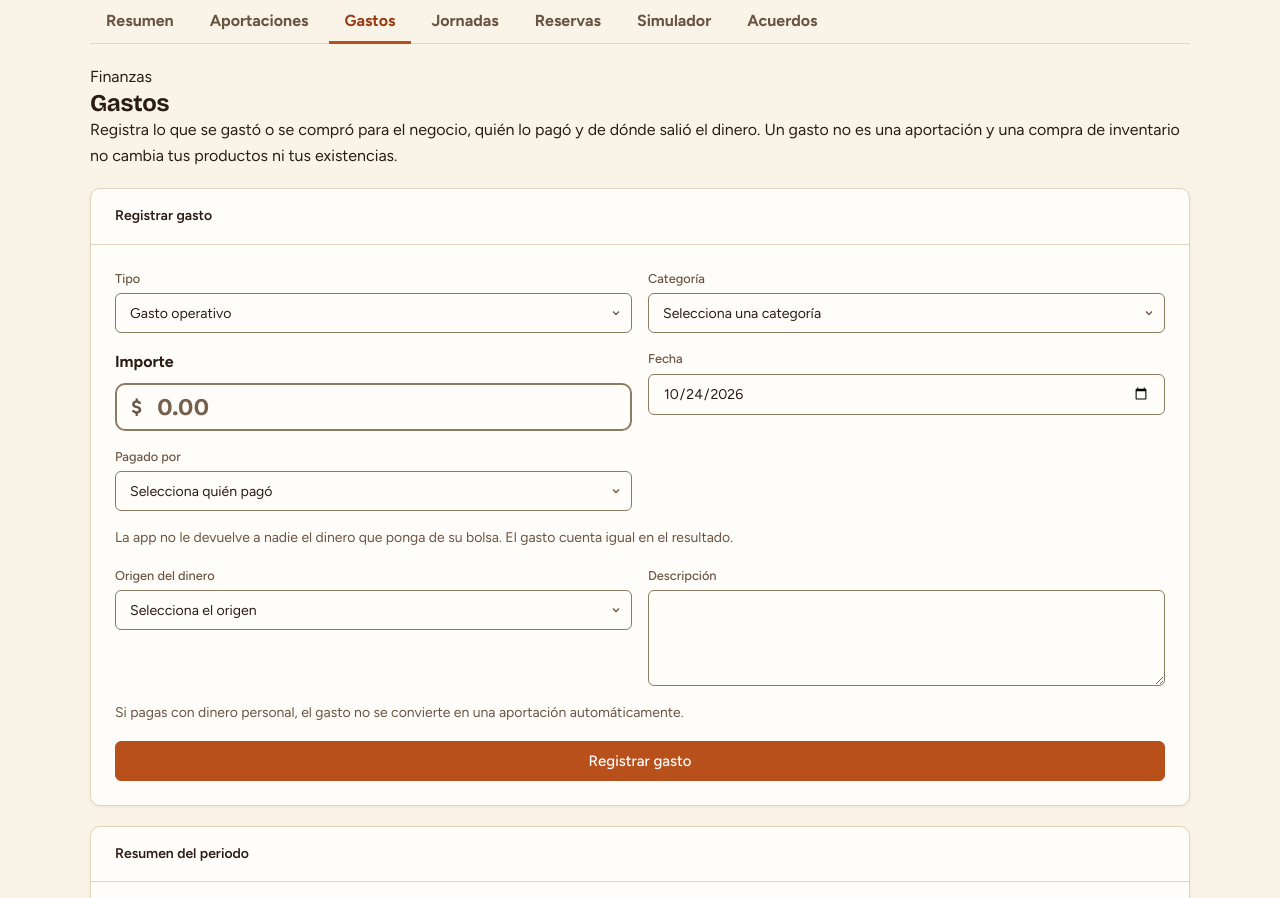
expenses screen › does not save an ambiguous amount and says what is wrong
Select "Transporte" in the dropdown with id "expense-category" at (906, 313), box [648,293,1165,333]
Type "450.50" into the field with id "expense-amount".
click(374, 407); type("450.50")  # box [115,383,632,431]
Type "2026-10-01" into the date field with id "expense-date".
click(906, 394); type("2026-10-01")  # box [648,374,1165,415]
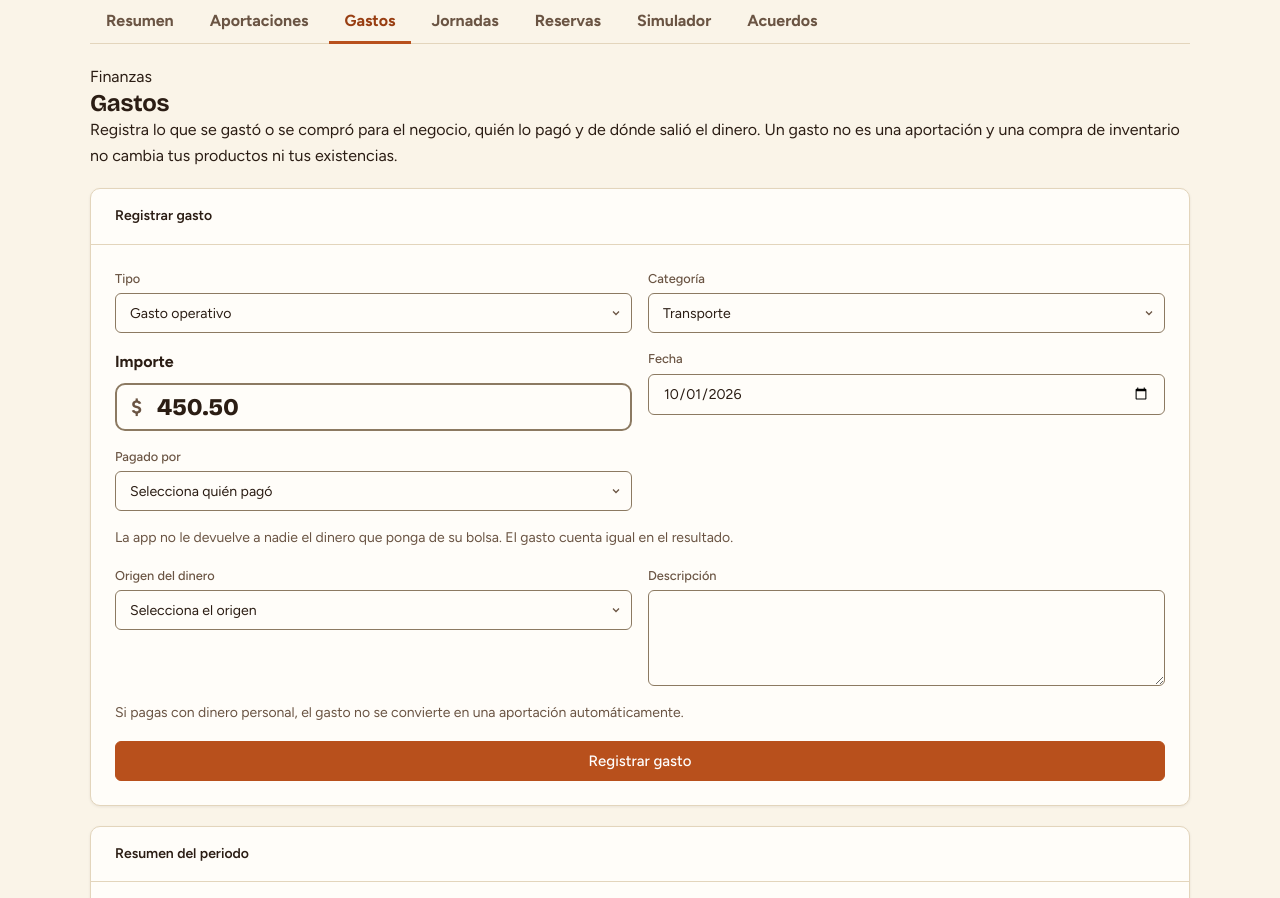
Select "Ana" in the dropdown with id "expense-payer" at (374, 491), box [115,471,632,511]
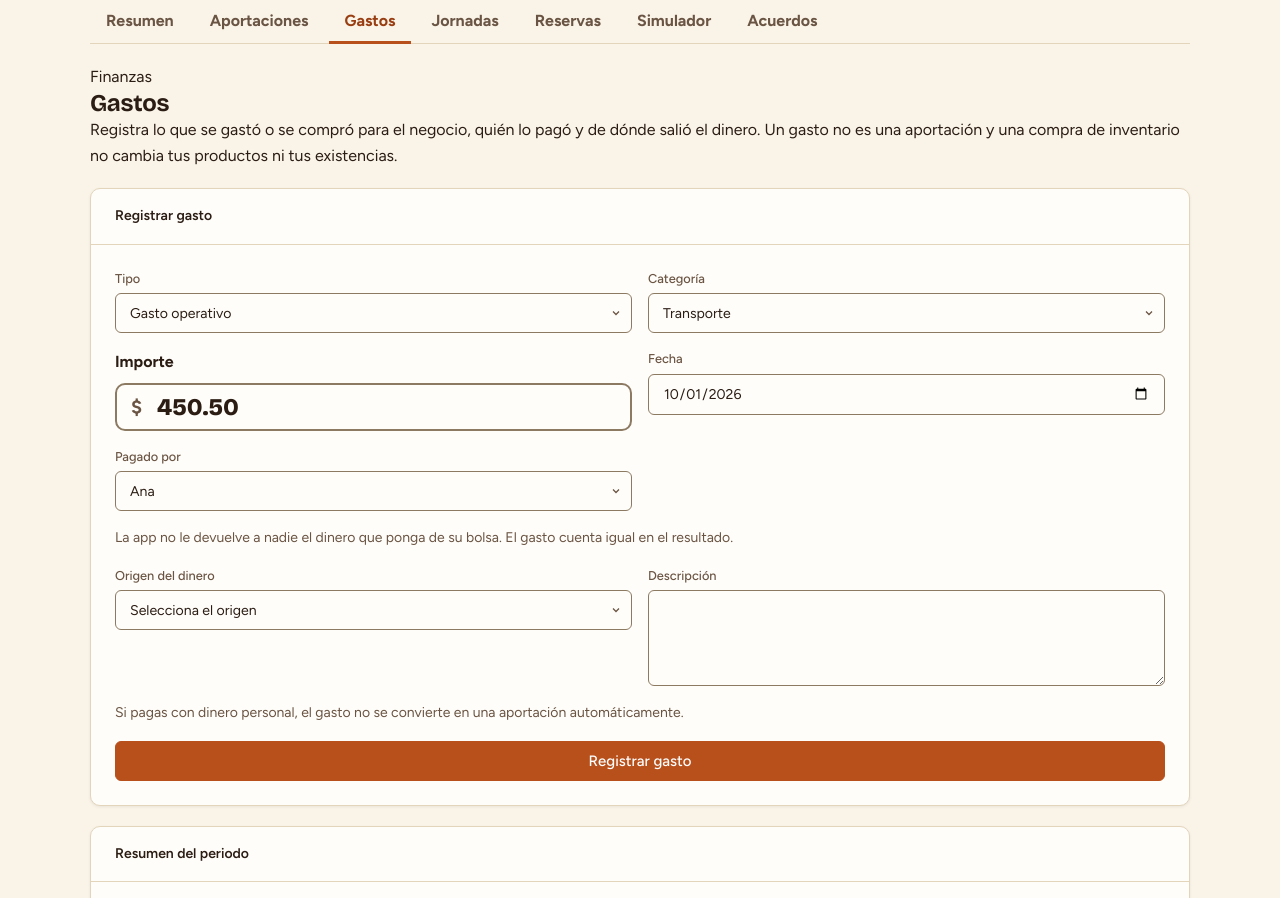
Select "Personal" in the dropdown with id "expense-funds" at (374, 610), box [115,590,632,630]
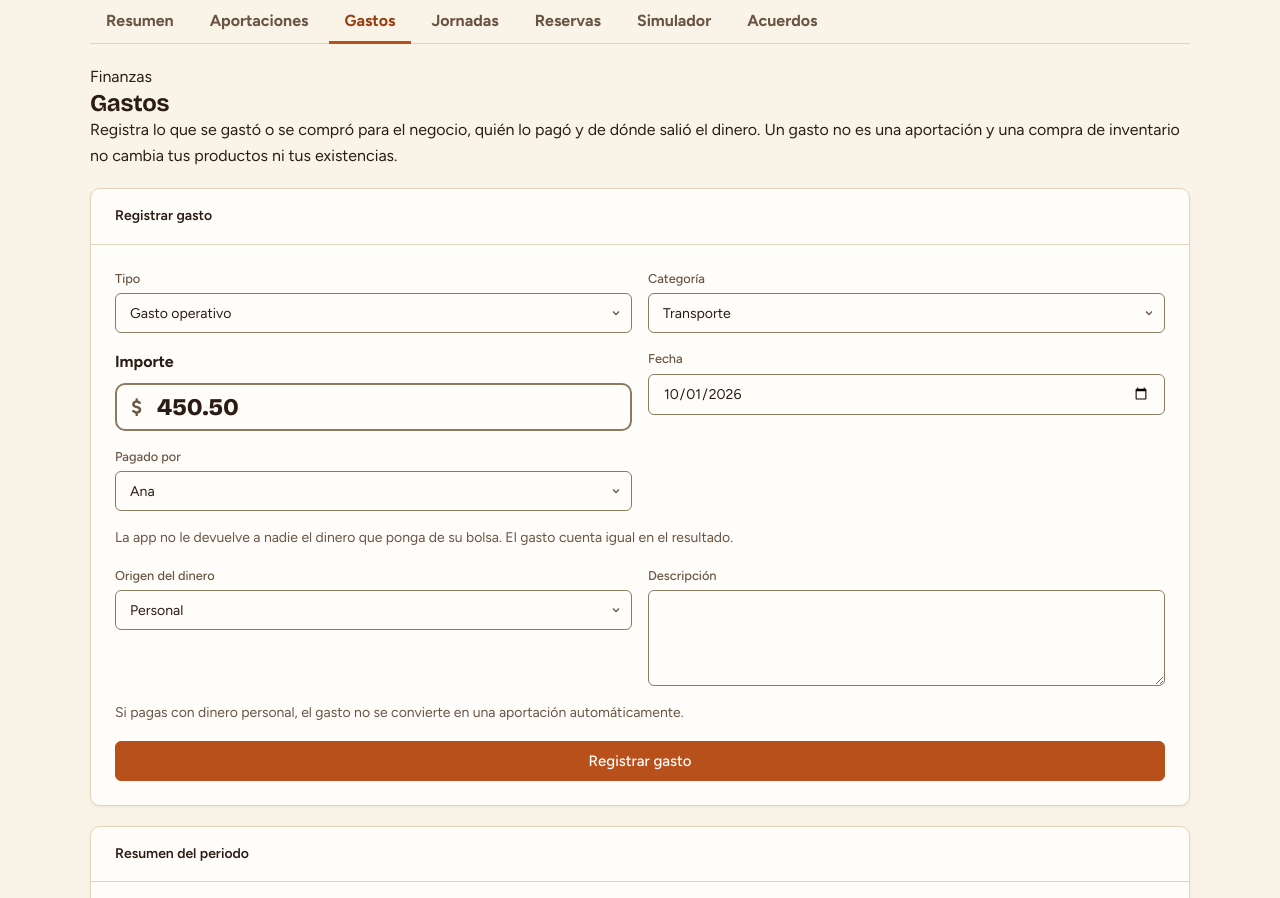
Type "  Flete del bazar  " into the text box with id "expense-description".
click(906, 638); type("  Flete del bazar  ")  # box [648,590,1165,686]
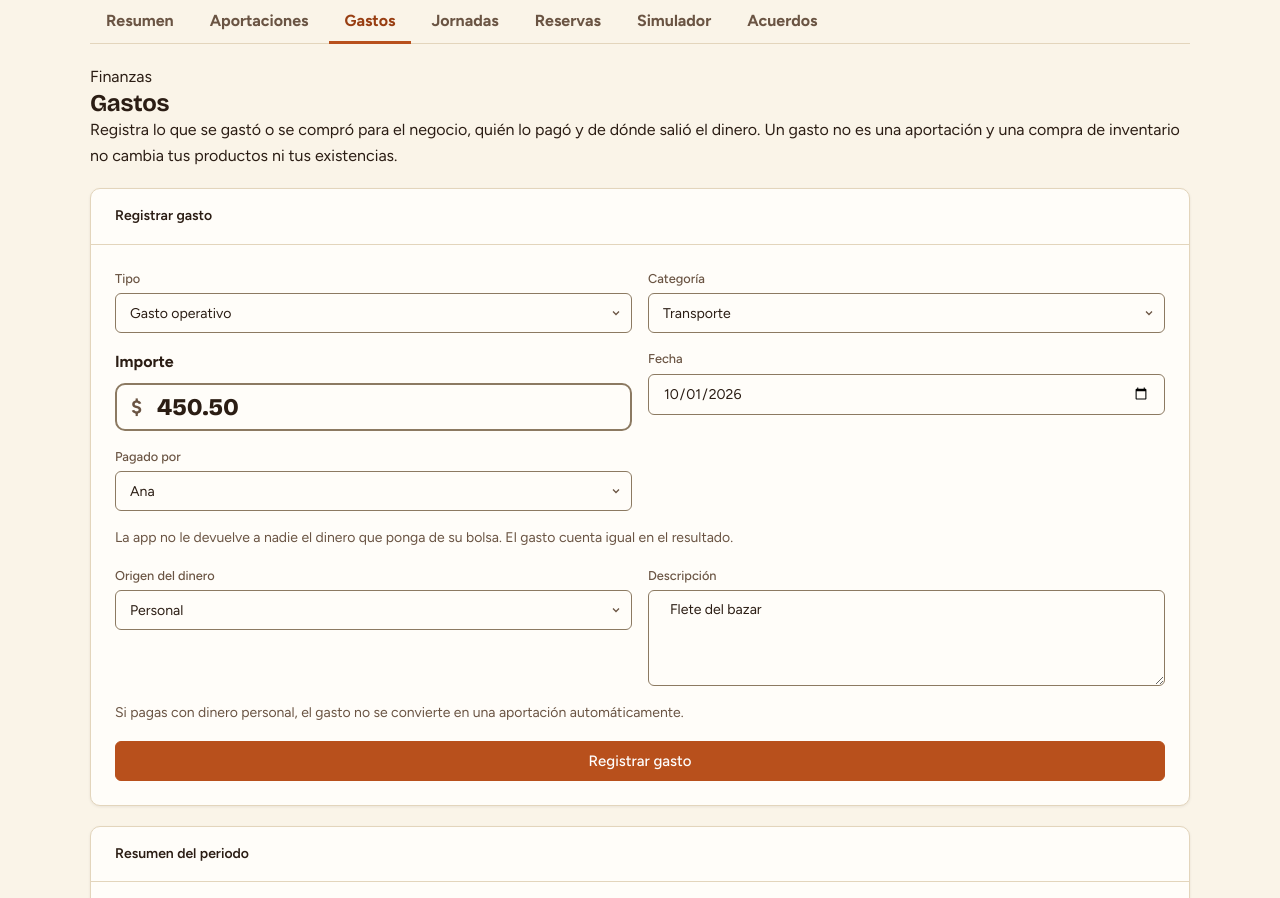
Replace the text in the field with id "expense-amount" with "100,50" at (374, 407), box [115,383,632,431]
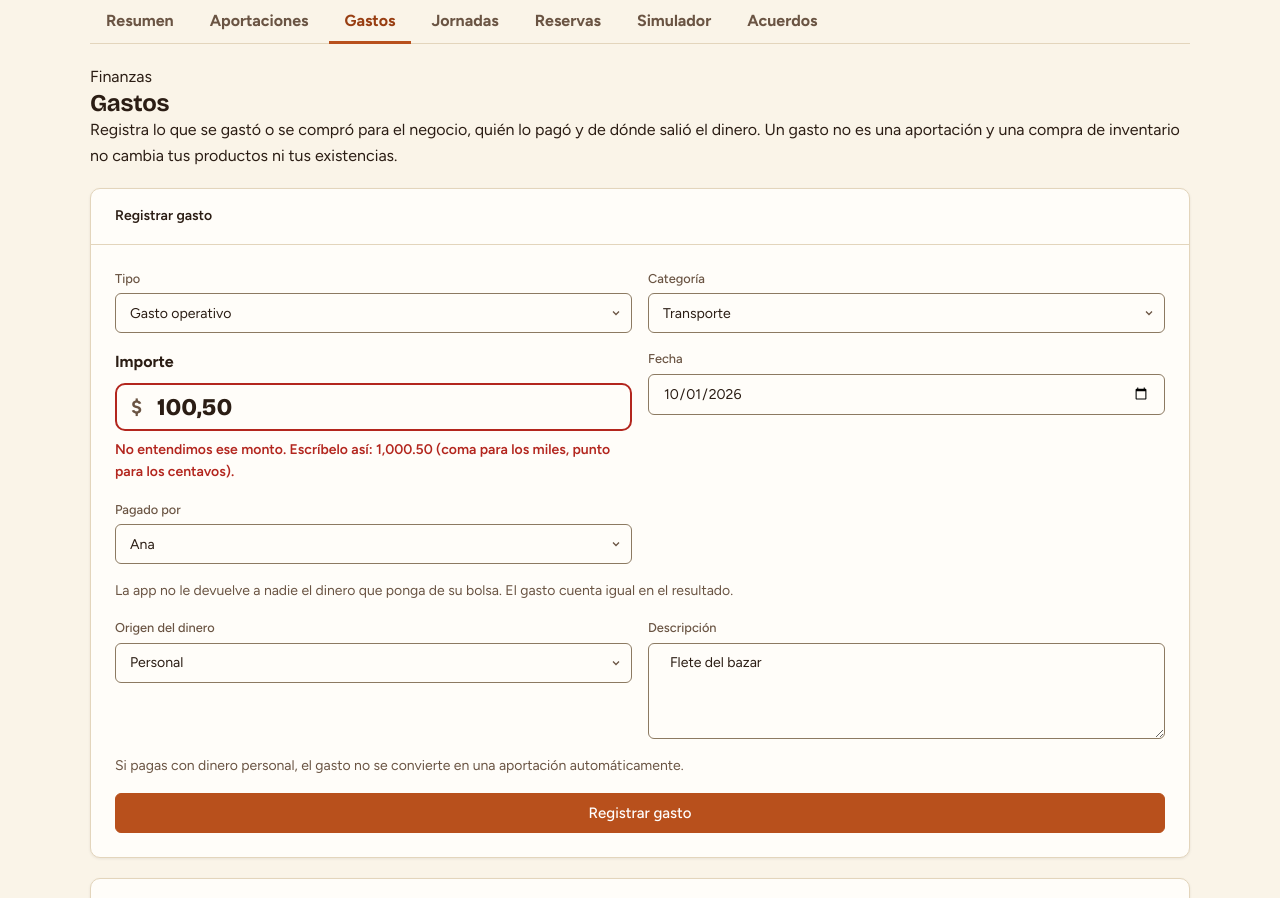
Submit the form with test id "create-form", box [115,269,1165,833]
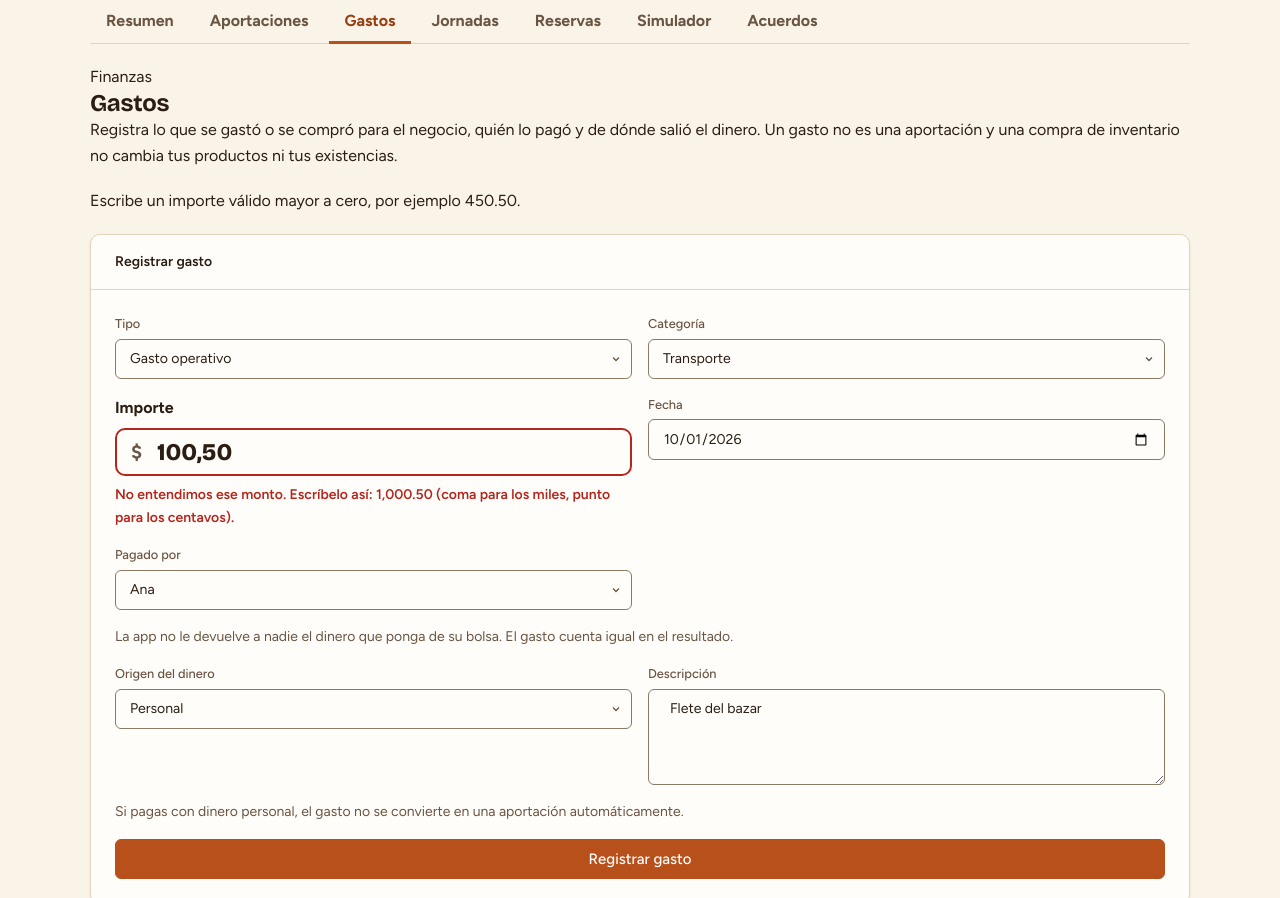
Expected: the message "Escribe un importe válido mayor a cero, por ejemplo 450.50." is shown, [90,191,520,210]
